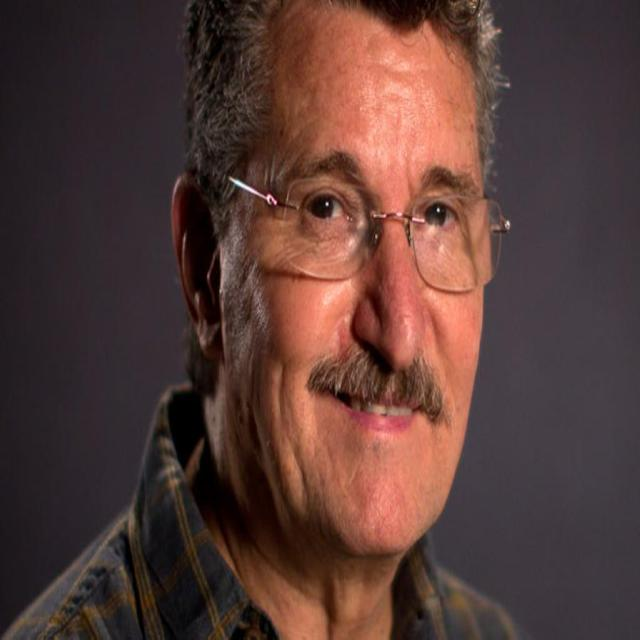Face: (236, 7, 492, 550)
